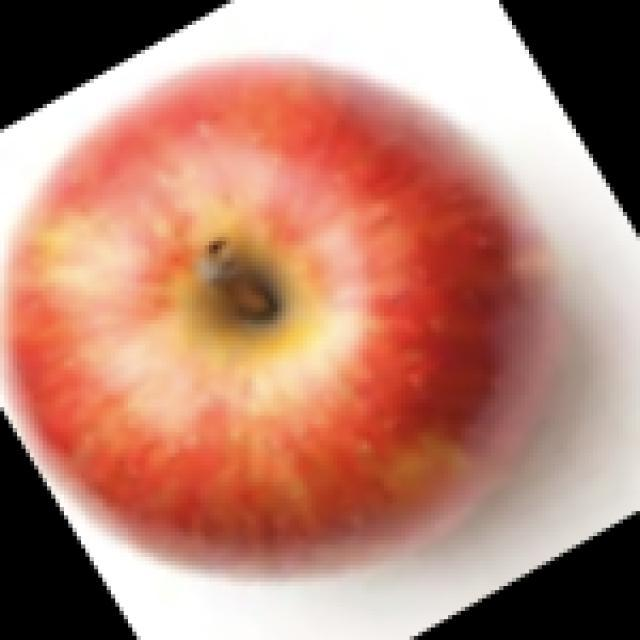Fresh Apple: (27, 65, 535, 602)
